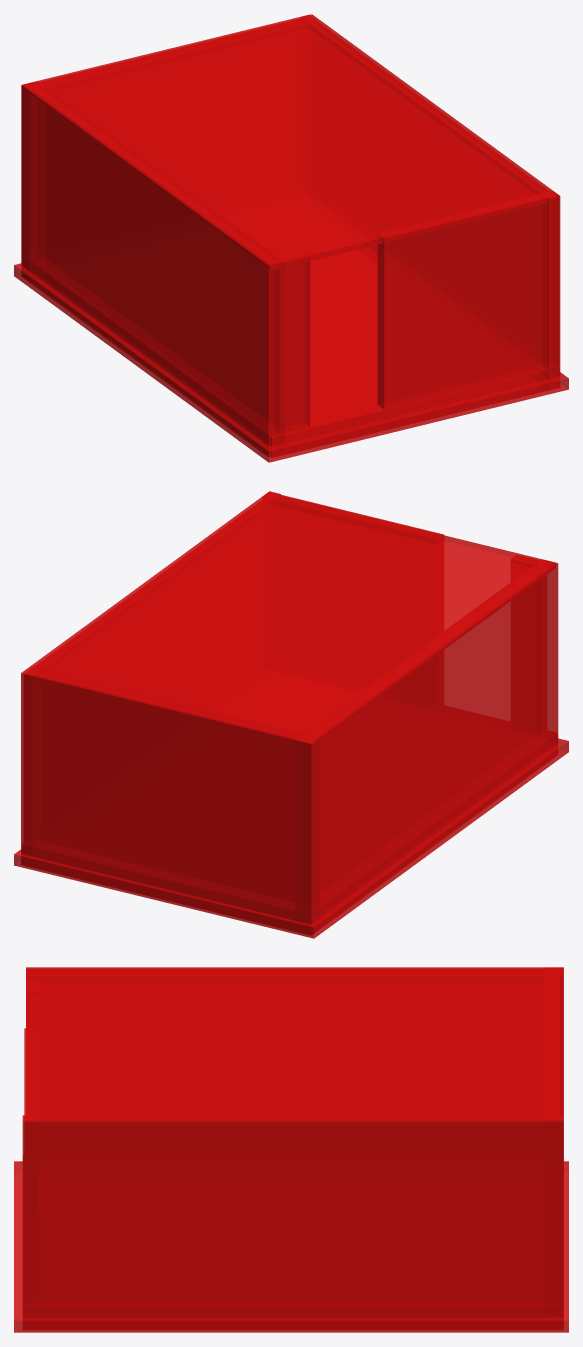
Rendered from SM_Bld_City_Section_Base_04_Collision.fbx.
3 views of the same model, one above another, from view 1: azimuth 30°, elevation 25°; view 2: azimuth 150°, elevation 25°; view 3: azimuth 270°, elevation 25° (orthographic). The views are drawn at different scales.
Visible parts, largest first — view 1: SM_Bld_City_Section_Base_04_Collision; view 2: SM_Bld_City_Section_Base_04_Collision; view 3: SM_Bld_City_Section_Base_04_Collision.
Part boxes in pixels (x1,y1,x2,y2): SM_Bld_City_Section_Base_04_Collision: (14,14,568,462); SM_Bld_City_Section_Base_04_Collision: (14,491,568,938); SM_Bld_City_Section_Base_04_Collision: (14,967,568,1332).
Size of the model in its own units: 526 by 321 by 775.
